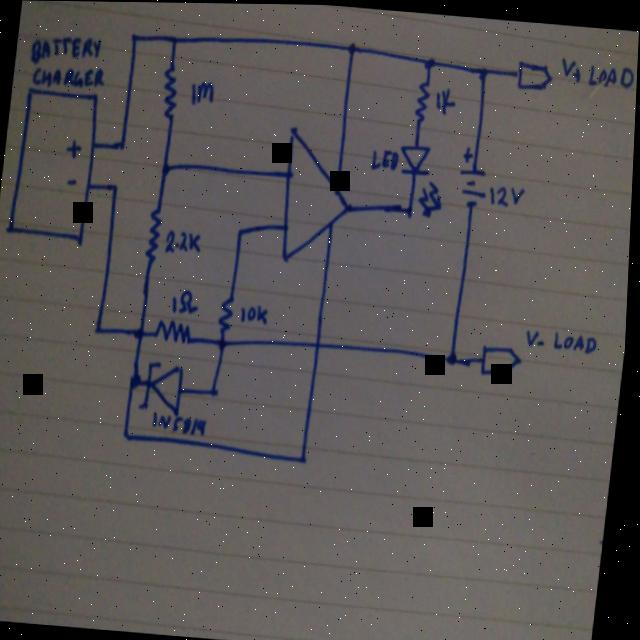crossover: (314, 331, 328, 351)
diode: (393, 140, 451, 217), (140, 357, 190, 415)
junction: (443, 345, 463, 368), (130, 368, 147, 391), (421, 51, 439, 72), (474, 60, 492, 81), (217, 333, 234, 353), (299, 449, 316, 468), (344, 37, 361, 56), (159, 158, 175, 178), (136, 322, 151, 343), (167, 30, 182, 49), (115, 133, 129, 153), (110, 177, 124, 197), (127, 29, 143, 46), (94, 317, 107, 337), (210, 380, 223, 399), (403, 202, 417, 219), (236, 221, 249, 238), (123, 426, 136, 443)
resistor: (157, 62, 183, 119), (155, 316, 198, 348), (145, 203, 167, 263), (414, 76, 433, 125), (218, 294, 237, 335)
source: (4, 81, 106, 246), (454, 164, 491, 212)
terminal: (480, 341, 526, 379), (513, 56, 556, 93)
text: (557, 52, 638, 92), (29, 30, 102, 68), (525, 322, 604, 355), (31, 61, 105, 91), (151, 406, 212, 437), (166, 225, 206, 257), (487, 180, 528, 210), (171, 287, 202, 315), (369, 145, 402, 171), (188, 78, 217, 106), (433, 85, 460, 115), (240, 301, 272, 325)
